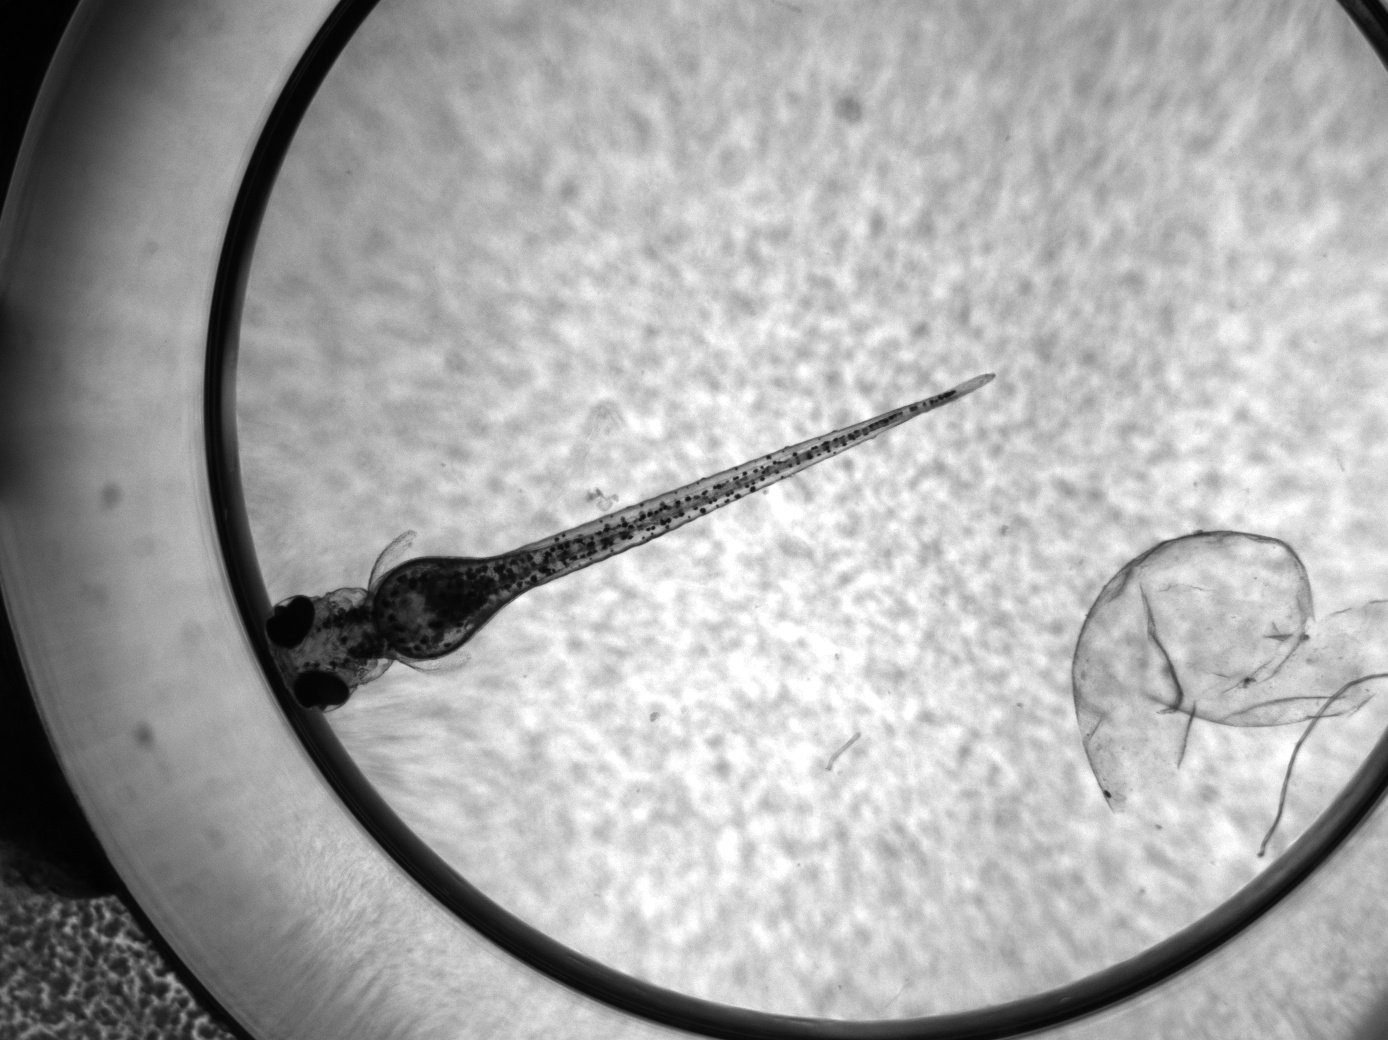debris: (1072, 530, 1375, 812)
embryo: (263, 373, 998, 713)
eye: (264, 595, 315, 650), (292, 667, 349, 713)
yolksac: (371, 556, 496, 661)
